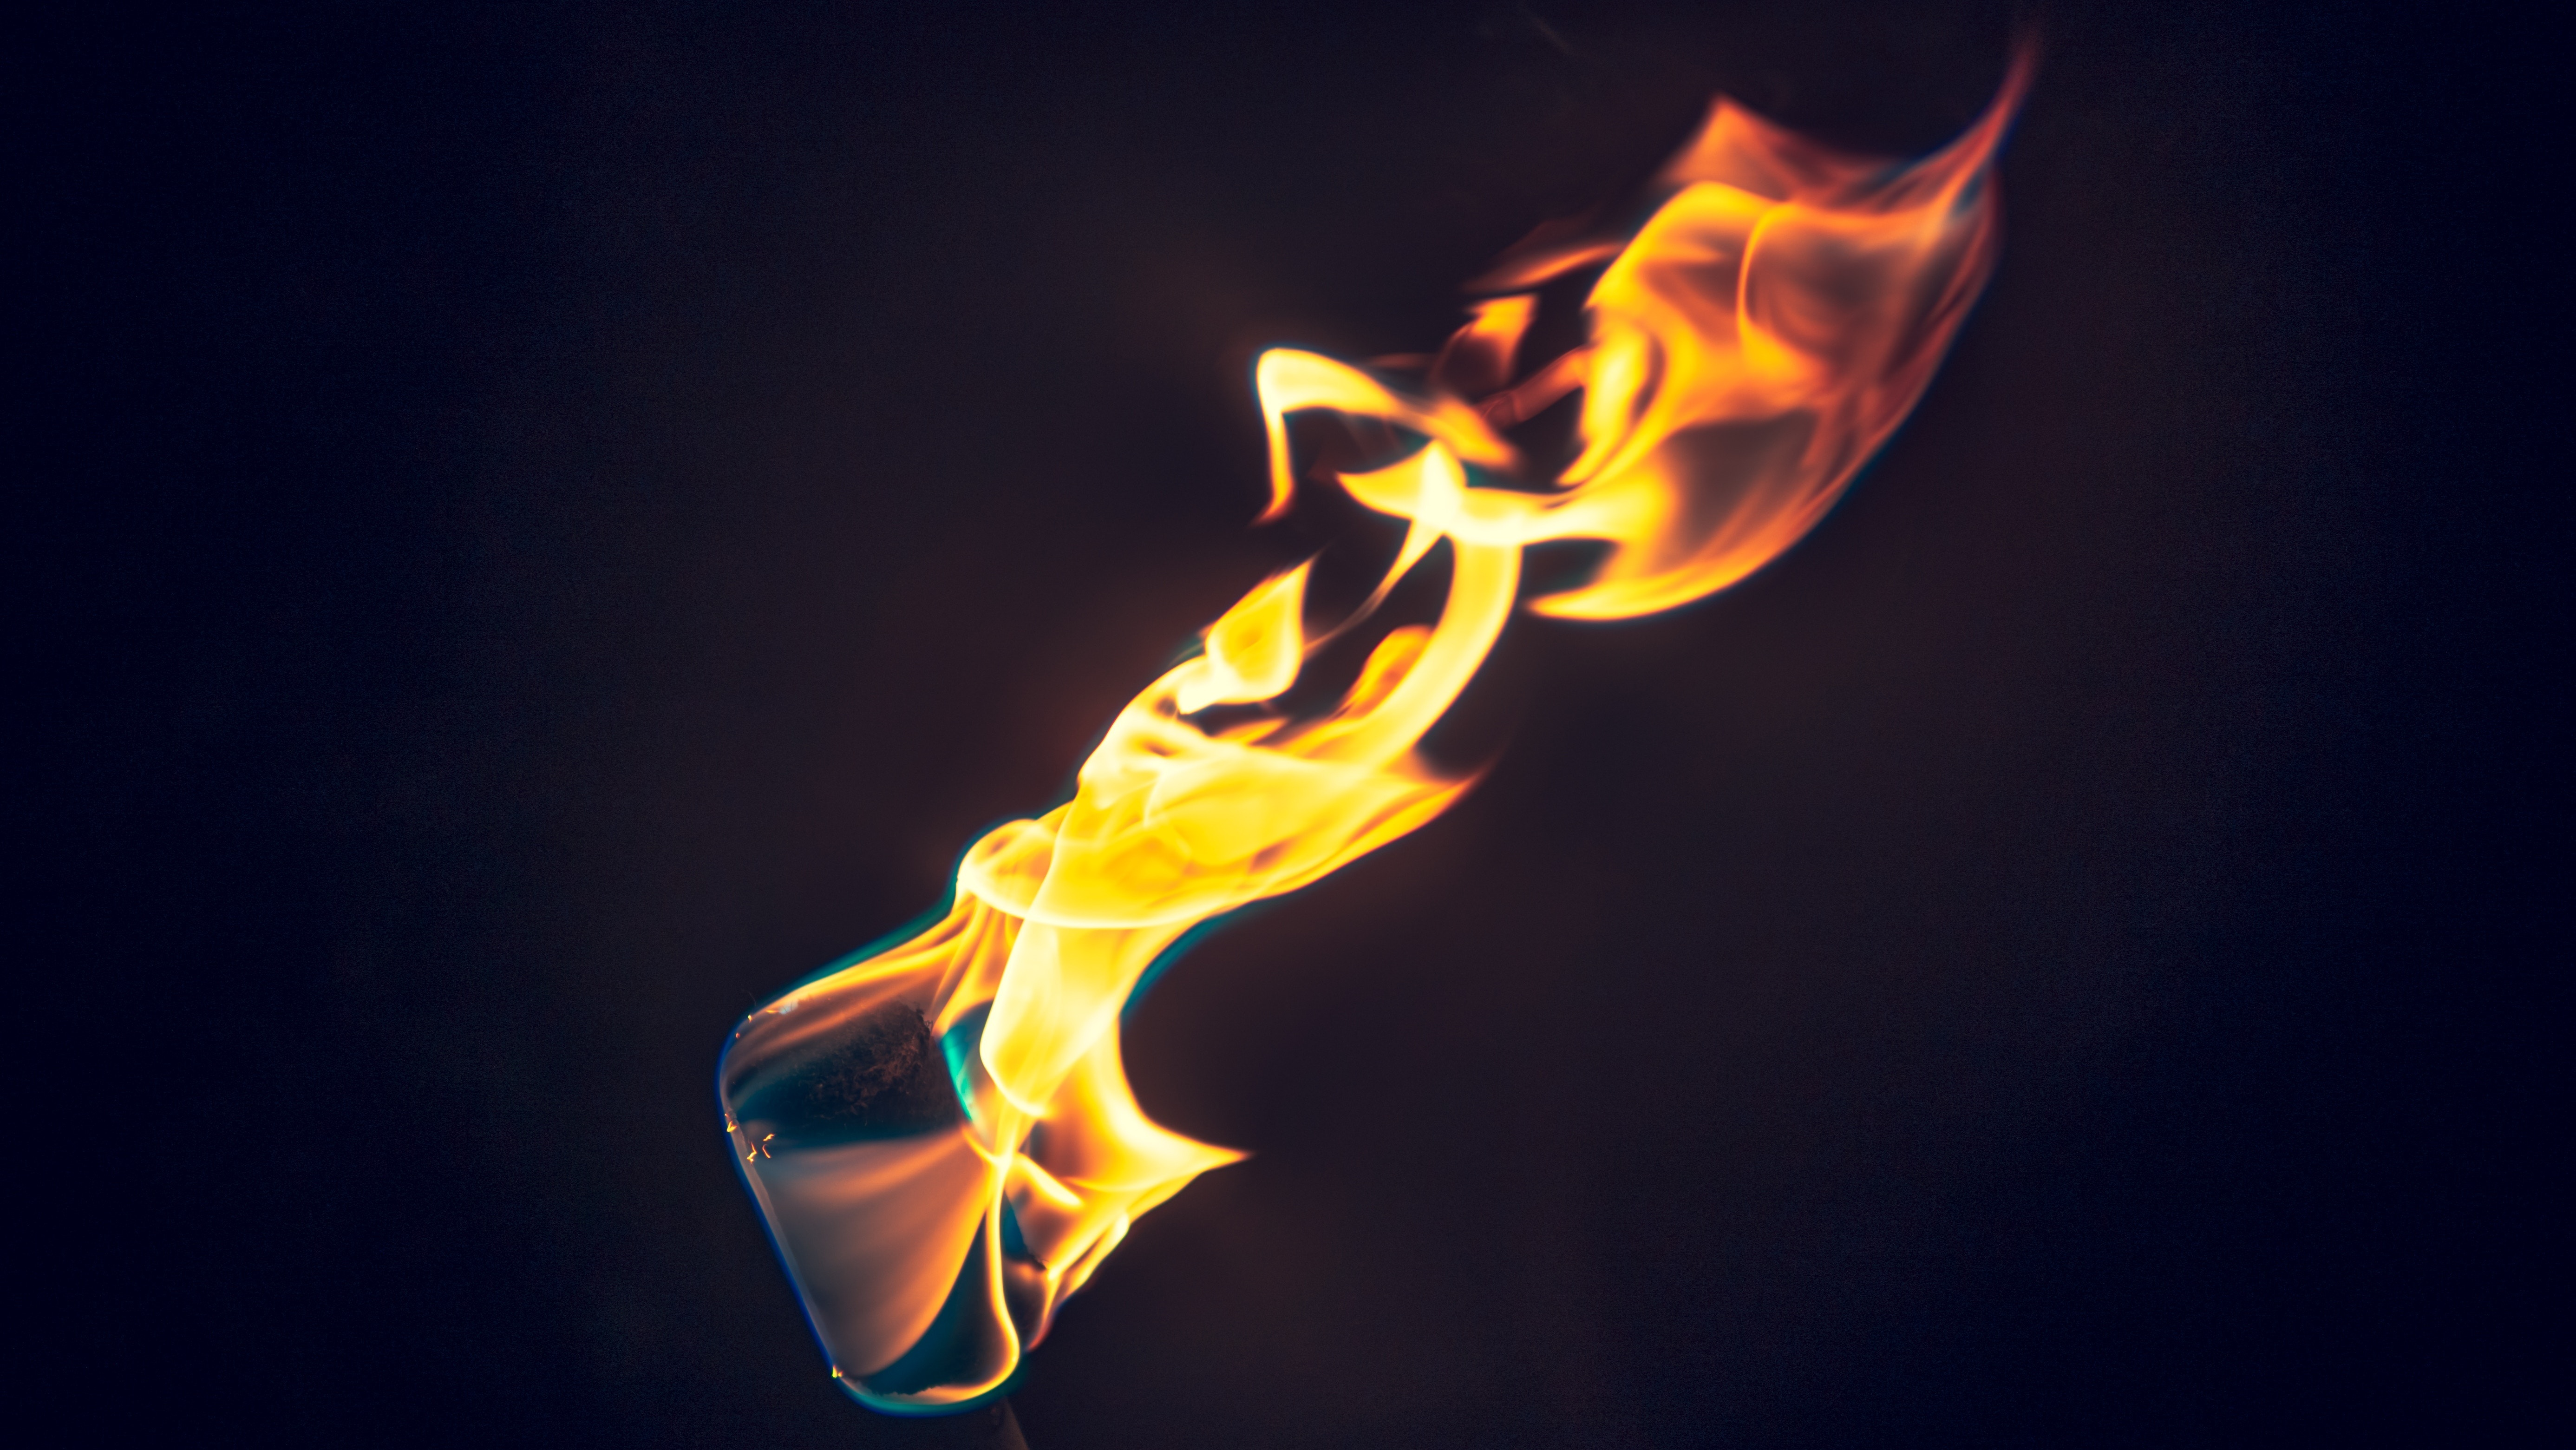fire: (681, 96, 2054, 1443)
